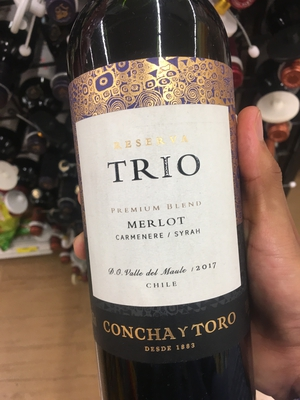trio merlot: (65, 15, 256, 392)
